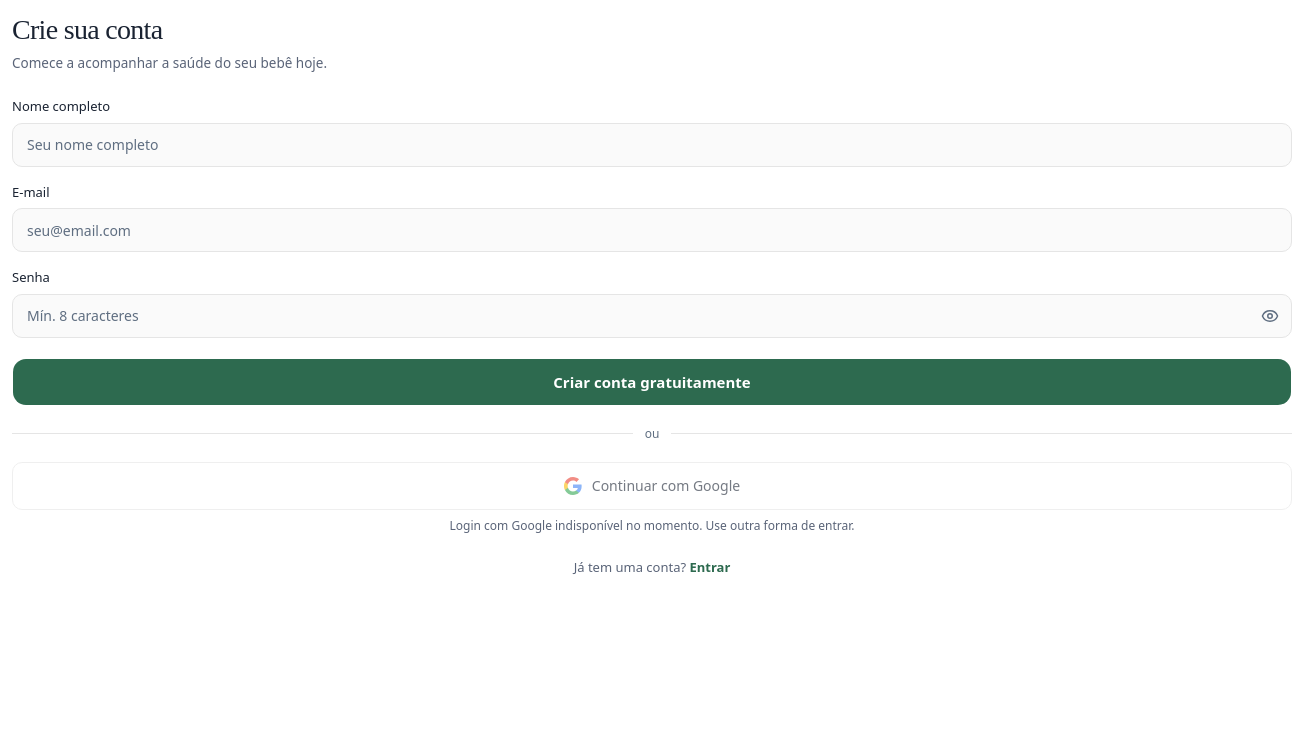
Test case: email authentication routes › registers the validated profile and returns to sign-in
The image size is (1304, 732).
Type "Parent" into the field labelled "Nome completo" at (652, 145), box 12,123 -> 1292,167
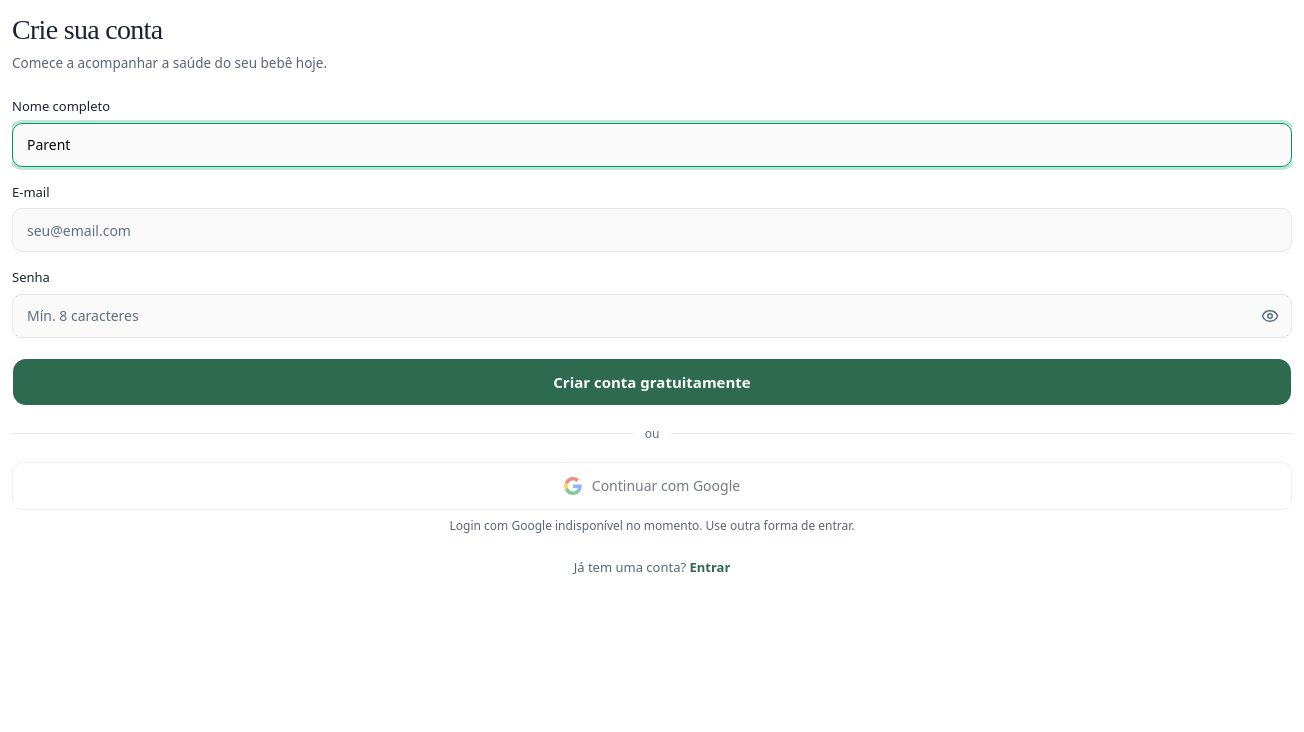
Type "parent@example.com" into the field labelled "E-mail" at (652, 230), box 12,208 -> 1292,252
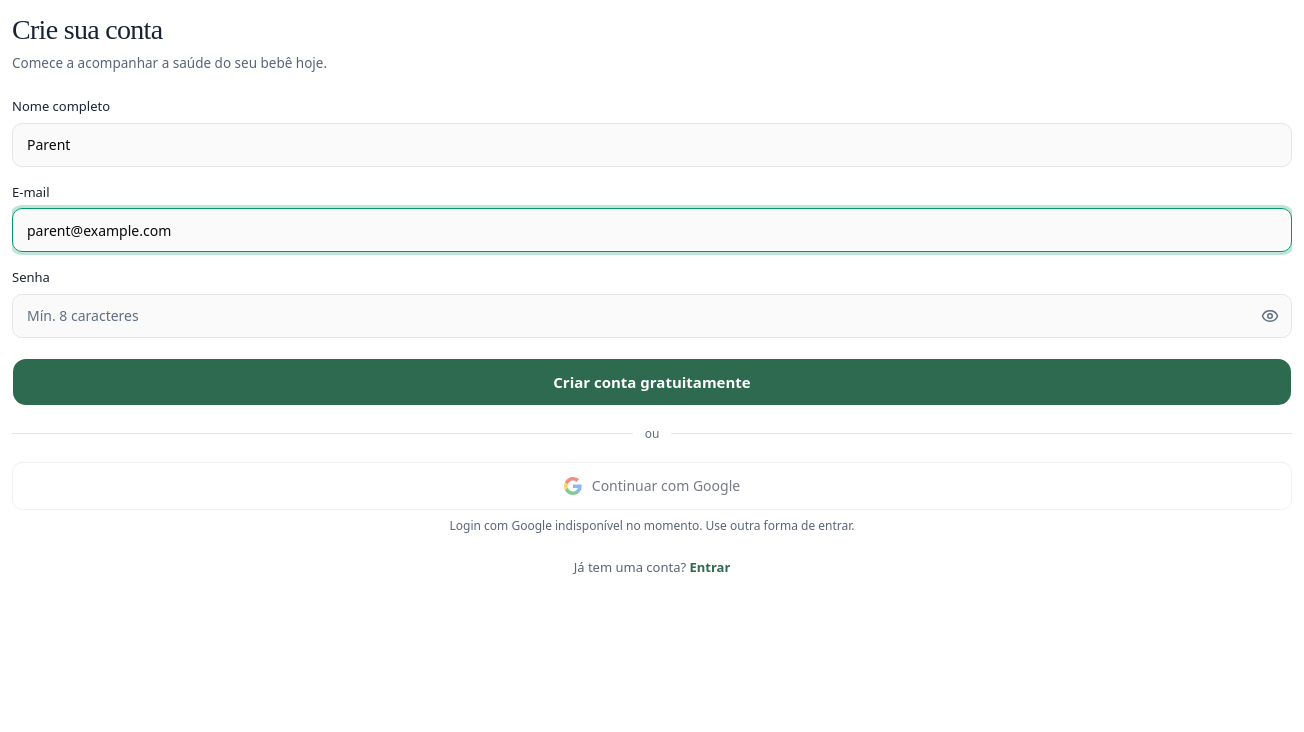
Type "safe-password" into the password field labelled "Senha" at (652, 316), box 12,294 -> 1292,338
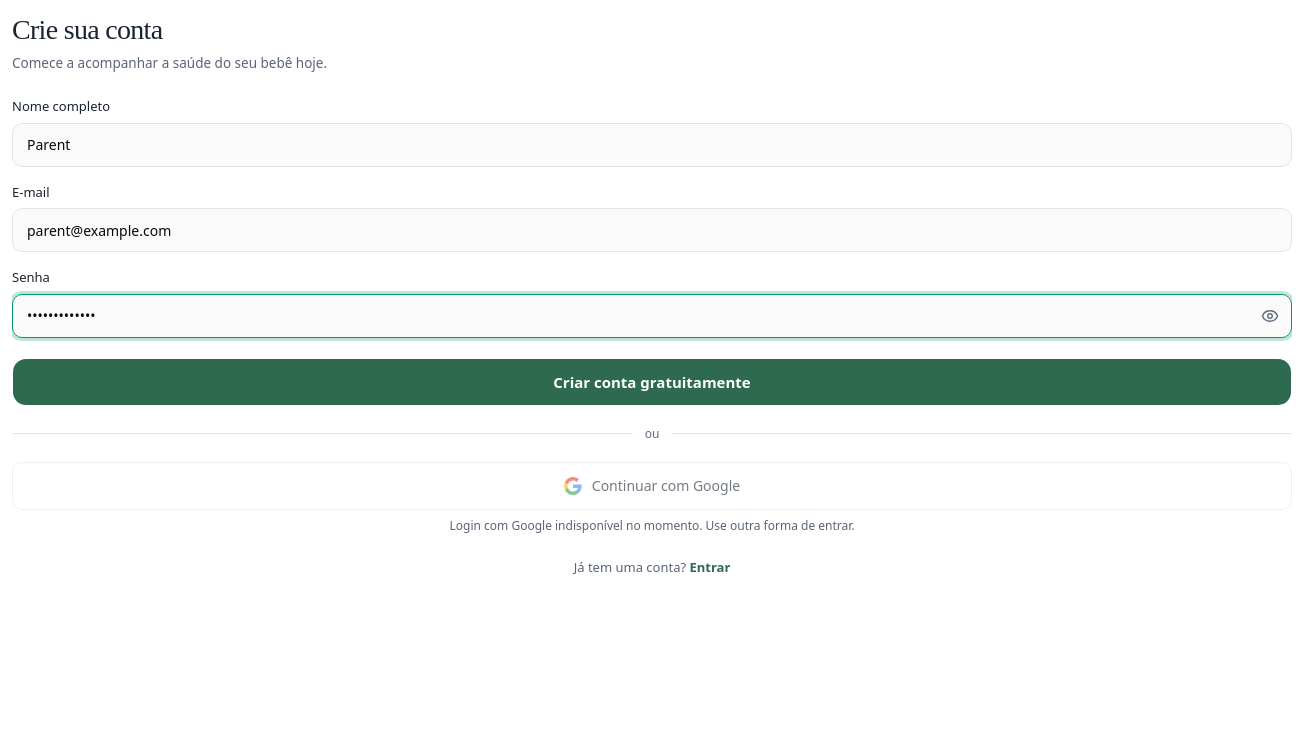
Click the button "Criar conta gratuitamente" at (652, 382), box 12,358 -> 1292,406
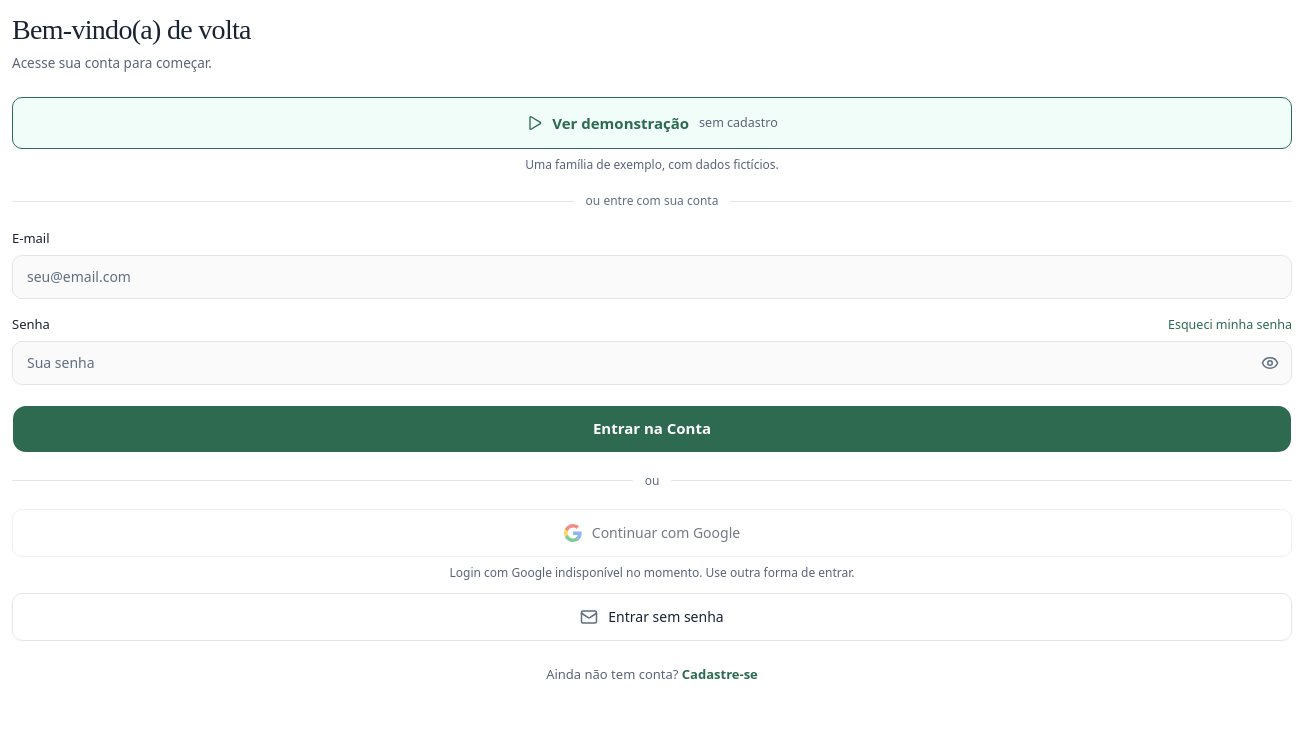
Check: the heading "Bem-vindo(a) de volta" is shown, box 12,14 -> 251,45
